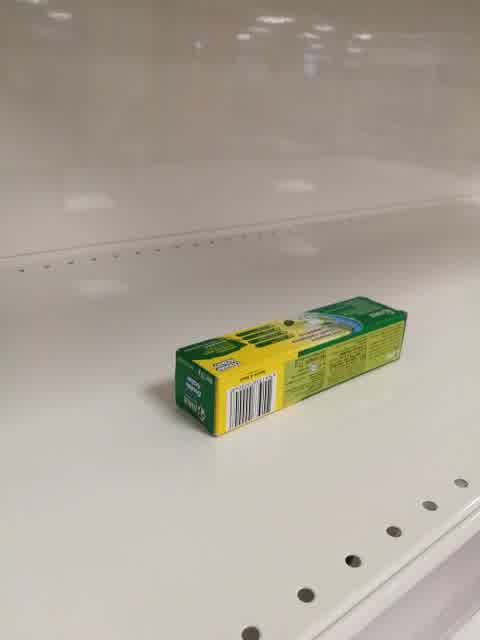toothpaste: (174, 296, 407, 439)
